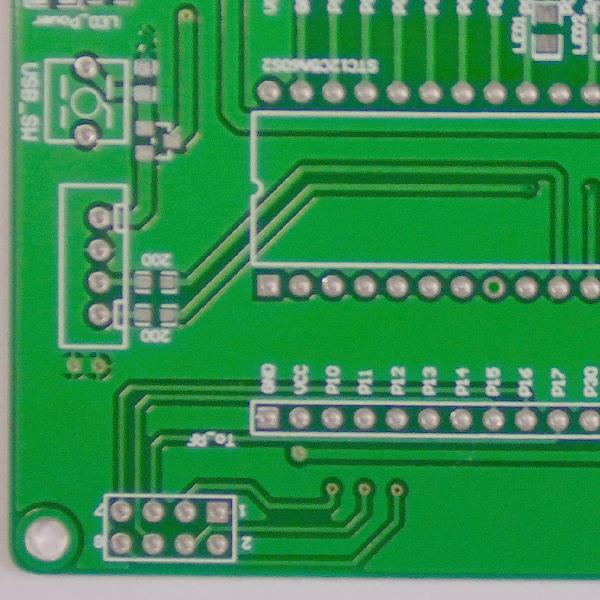missing_hole: (481, 270, 510, 302)
